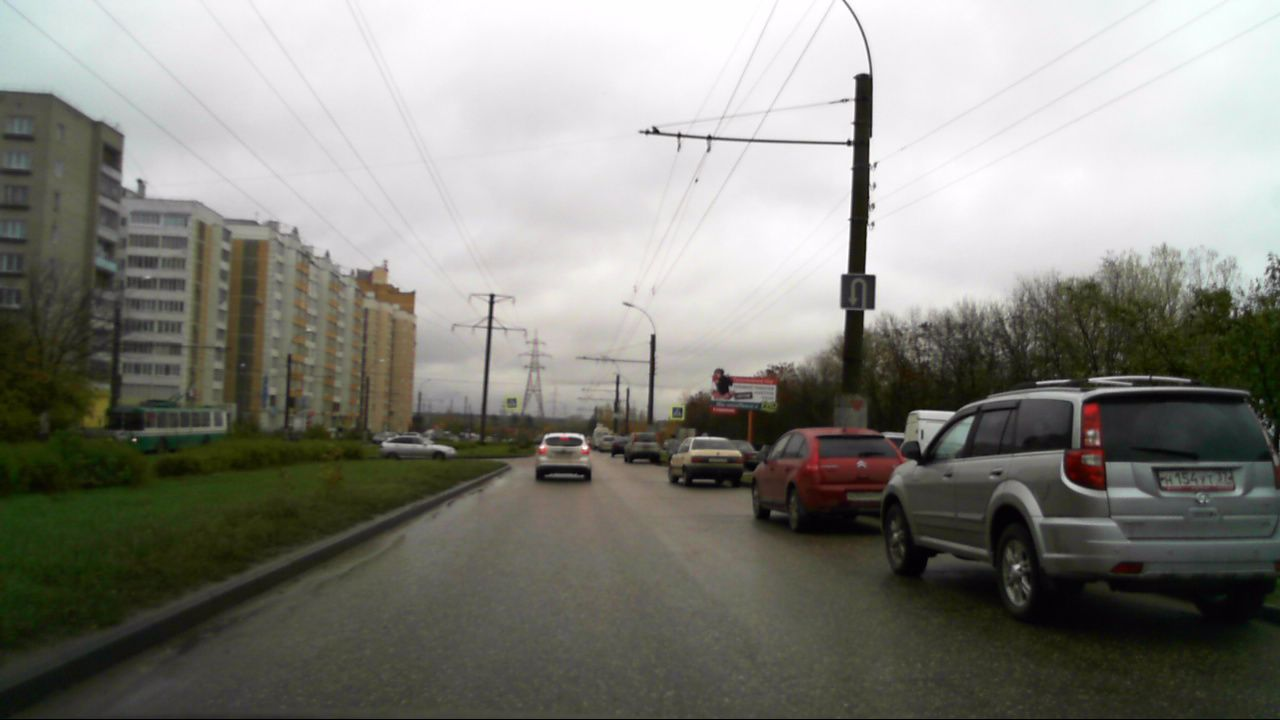U-turn: (841, 274, 875, 309)
